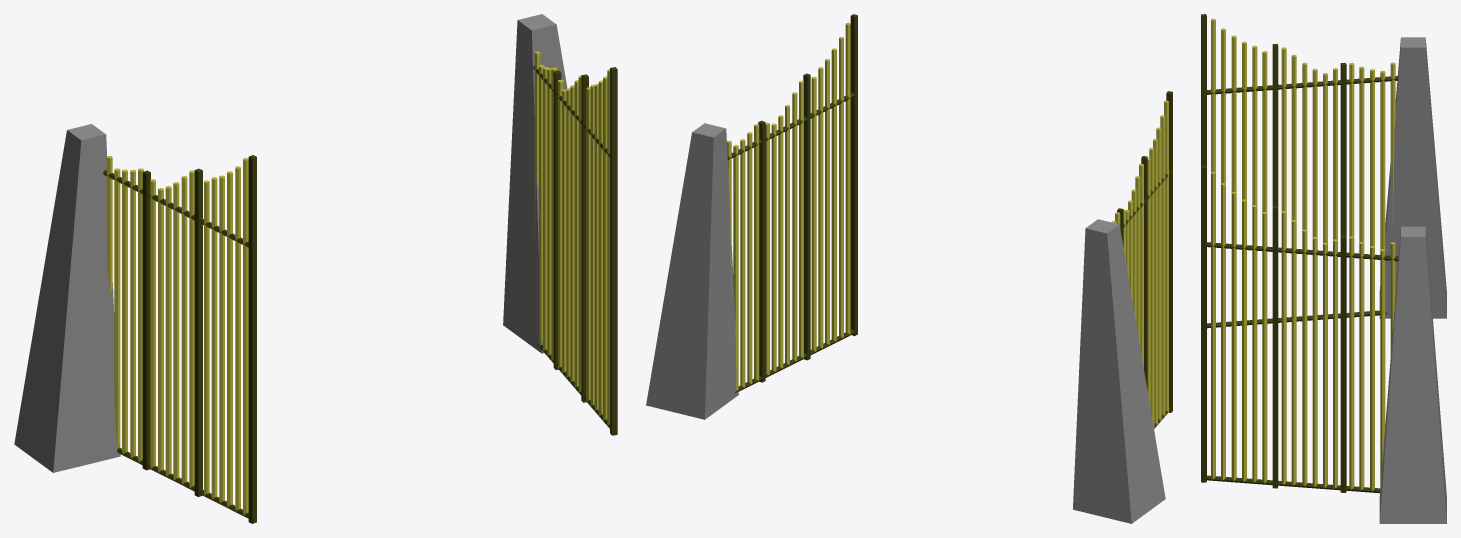
Rendered from GatesOpenStatic.fbx.
3 views of the same model, side by side, from view 1: azimuth 30°, elevation 25°; view 2: azimuth 150°, elevation 25°; view 3: azimuth 270°, elevation 25° (orthographic). The views are drawn at different scales.
Parts seen in each view (by area): view 1: gate_main3.049, gate_main3.071, gate_pillars.002, gate_pillars.003; view 2: gate_main3.071, gate_pillars.002, gate_pillars.003, gate_main3.049; view 3: gate_main3.071, gate_main3.049, gate_pillars.003, gate_pillars.002.
Boxes of the visible parts, x1=… form: gate_main3.049: x1=103, y1=155, x2=256, y2=523; gate_main3.071: x1=533, y1=51, x2=617, y2=435; gate_pillars.002: x1=14, y1=124, x2=120, y2=472; gate_pillars.003: x1=503, y1=14, x2=567, y2=353; gate_main3.071: x1=727, y1=14, x2=857, y2=392; gate_pillars.002: x1=1073, y1=219, x2=1165, y2=523; gate_pillars.003: x1=646, y1=123, x2=738, y2=419; gate_main3.049: x1=1111, y1=91, x2=1172, y2=428; gate_main3.071: x1=1201, y1=165, x2=1398, y2=493; gate_main3.049: x1=1201, y1=14, x2=1398, y2=328; gate_pillars.003: x1=1379, y1=226, x2=1446, y2=523; gate_pillars.002: x1=1379, y1=37, x2=1446, y2=318.
Bounding box in the file's own units: 1237 × 781 × 550.
